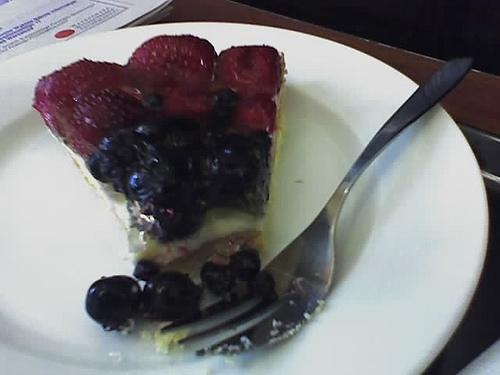strawberry: (34, 58, 136, 142), (126, 33, 215, 95), (214, 44, 282, 100), (72, 88, 145, 130), (237, 96, 277, 134), (166, 85, 218, 114)
